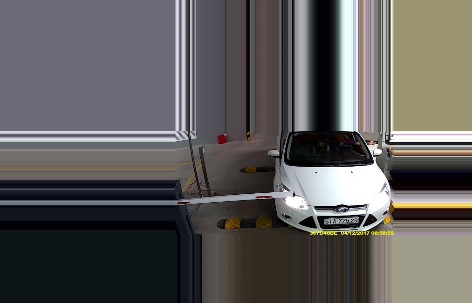plate: (324, 216, 361, 225)
